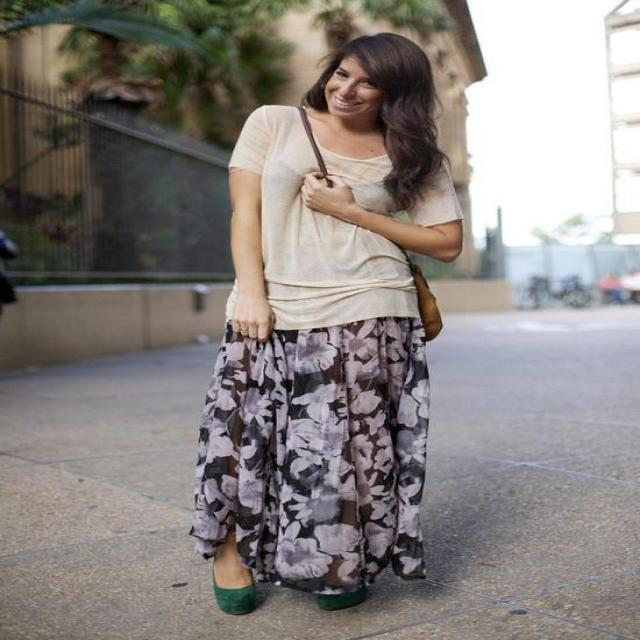Tshirt: (225, 106, 465, 332)
skirt: (189, 302, 431, 594)
